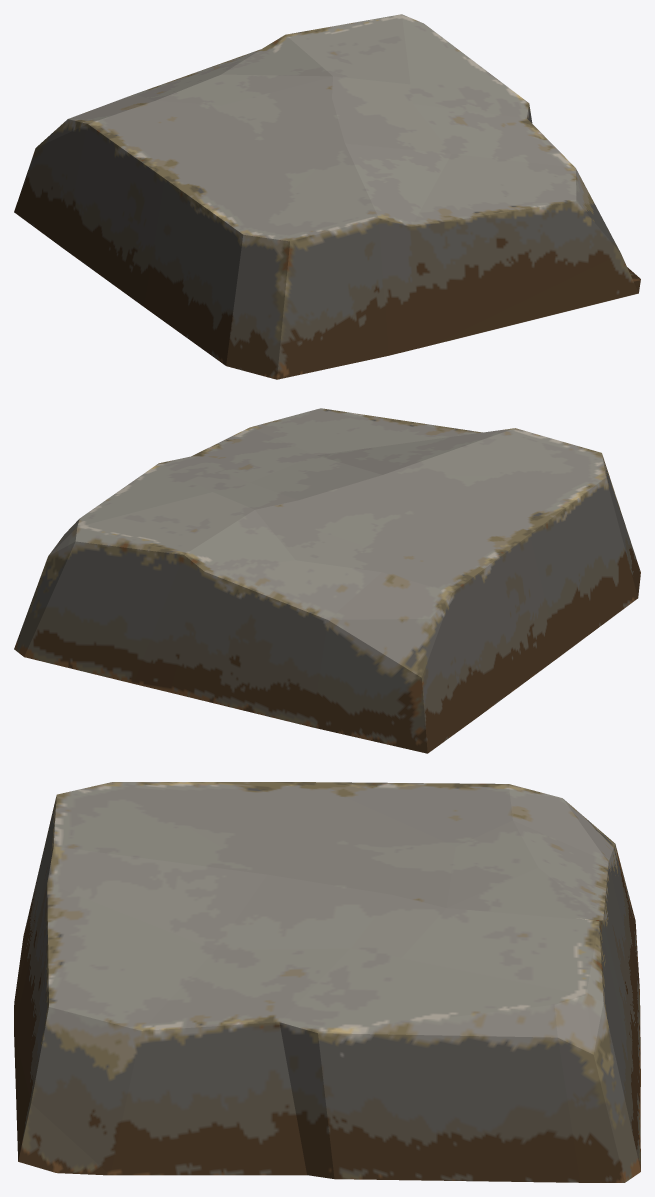
File: Pebble_Square_1__go_coast.glb
3 views of the same model, one above another, from view 1: azimuth 30°, elevation 25°; view 2: azimuth 150°, elevation 25°; view 3: azimuth 270°, elevation 25° (orthographic). The views are drawn at different scales.
Visible parts, largest first — view 1: Pebble_Square_1; view 2: Pebble_Square_1; view 3: Pebble_Square_1.
Part boxes in pixels (x1=…): Pebble_Square_1: x1=14, y1=14, x2=640, y2=379; Pebble_Square_1: x1=14, y1=408, x2=640, y2=753; Pebble_Square_1: x1=14, y1=782, x2=640, y2=1182.
Bounding box in the file's own units: 0.4346 × 0.1299 × 0.4396.
1 material, 1 textured.
